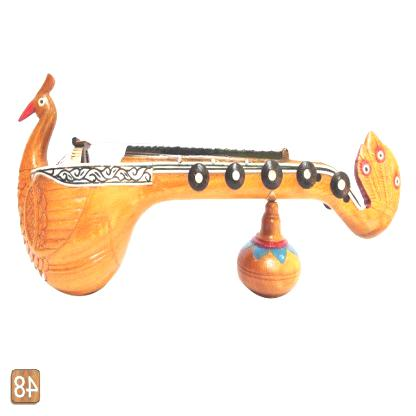Veena: (9, 124, 408, 231)
